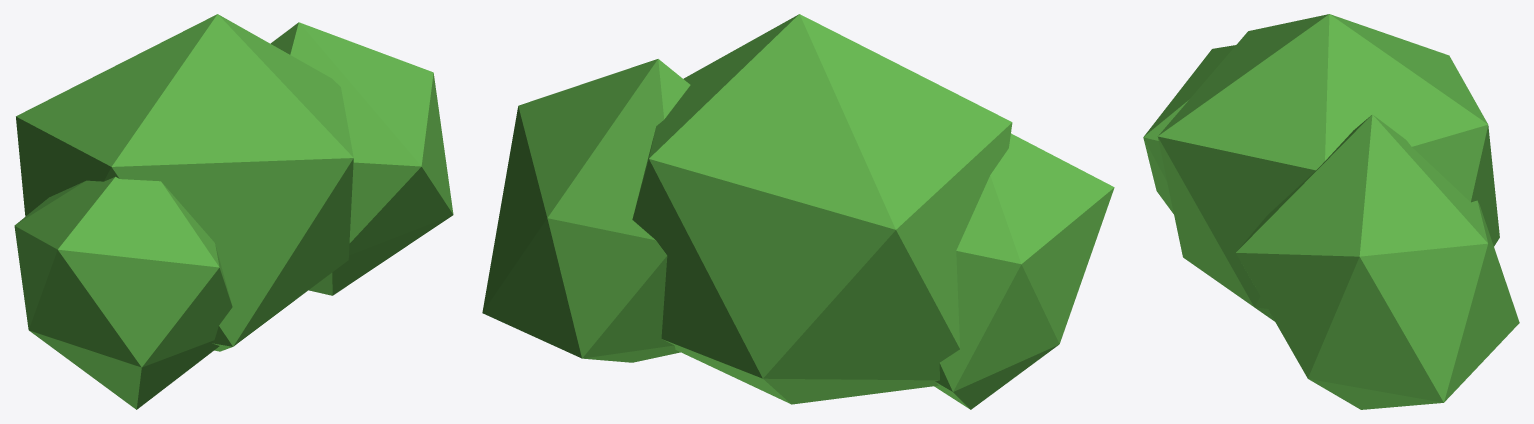
File: bush.glb
The picture shows the model from 3 angles, left to right: view 1: azimuth 30°, elevation 25°; view 2: azimuth 150°, elevation 25°; view 3: azimuth 270°, elevation 25°; orthographic projection. The views are drawn at different scales.
Visible parts, largest first — view 1: BushMesh; view 2: BushMesh; view 3: BushMesh.
Boxes of the visible parts, x1,y1,x2,y2 form: BushMesh: (14,14,453,409); BushMesh: (482,14,1114,409); BushMesh: (1143,14,1519,409).
Size of the model in its own units: 1.23 by 0.8967 by 0.8763.
